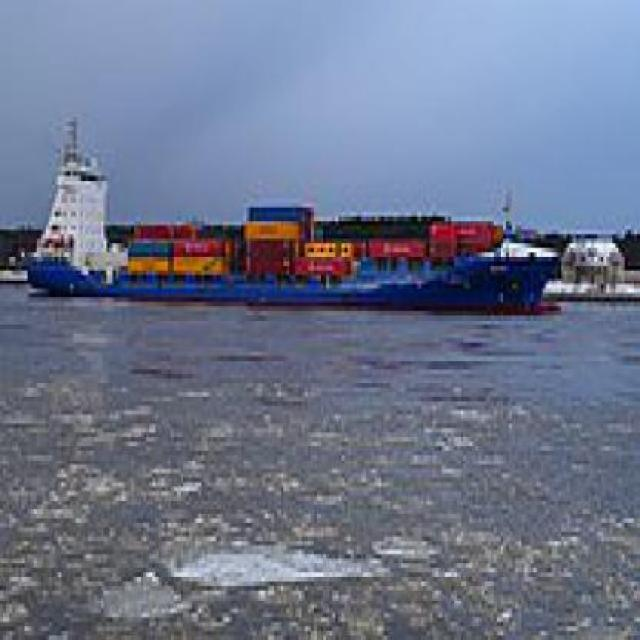container: (19, 109, 568, 326)
